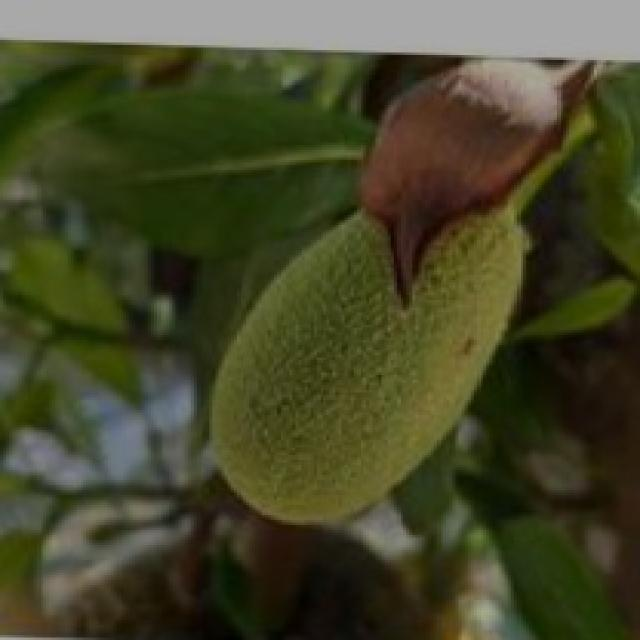Fruit: (163, 165, 575, 553)
